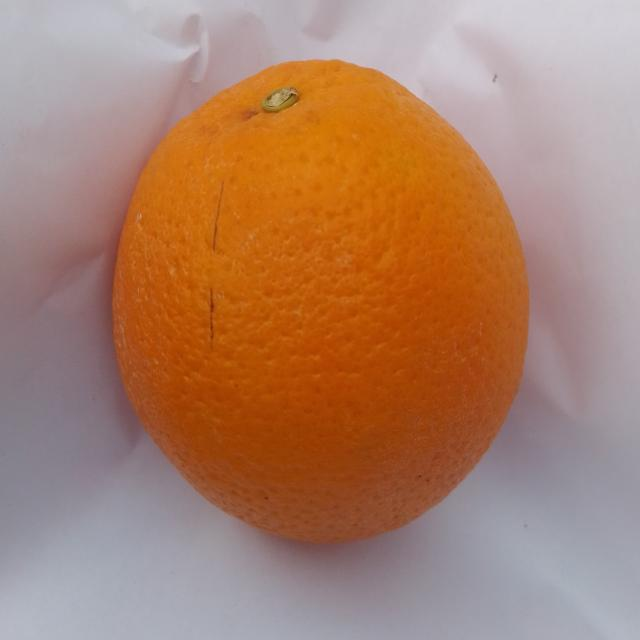orange: (113, 61, 528, 541)
